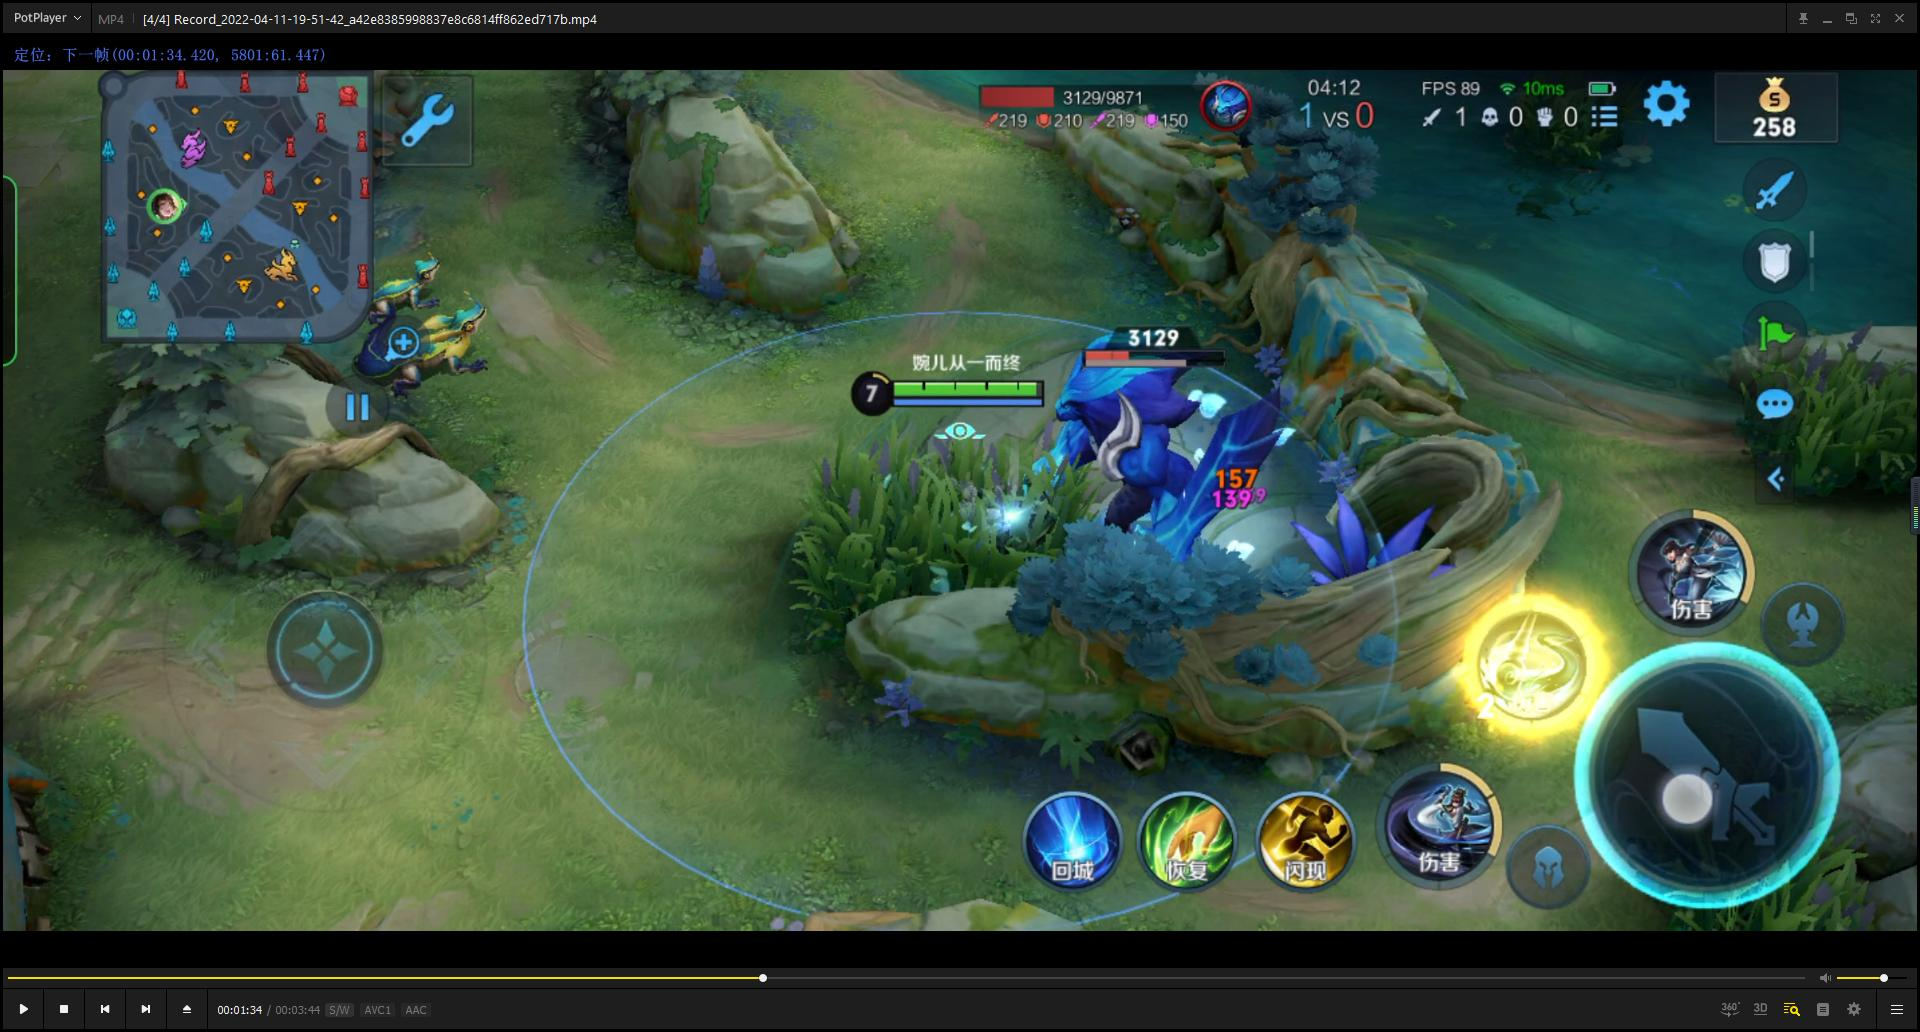Buff: (1001, 323, 1319, 587)
Hero: (867, 431, 1031, 563)
Lizard: (356, 294, 499, 411), (360, 240, 470, 320)
